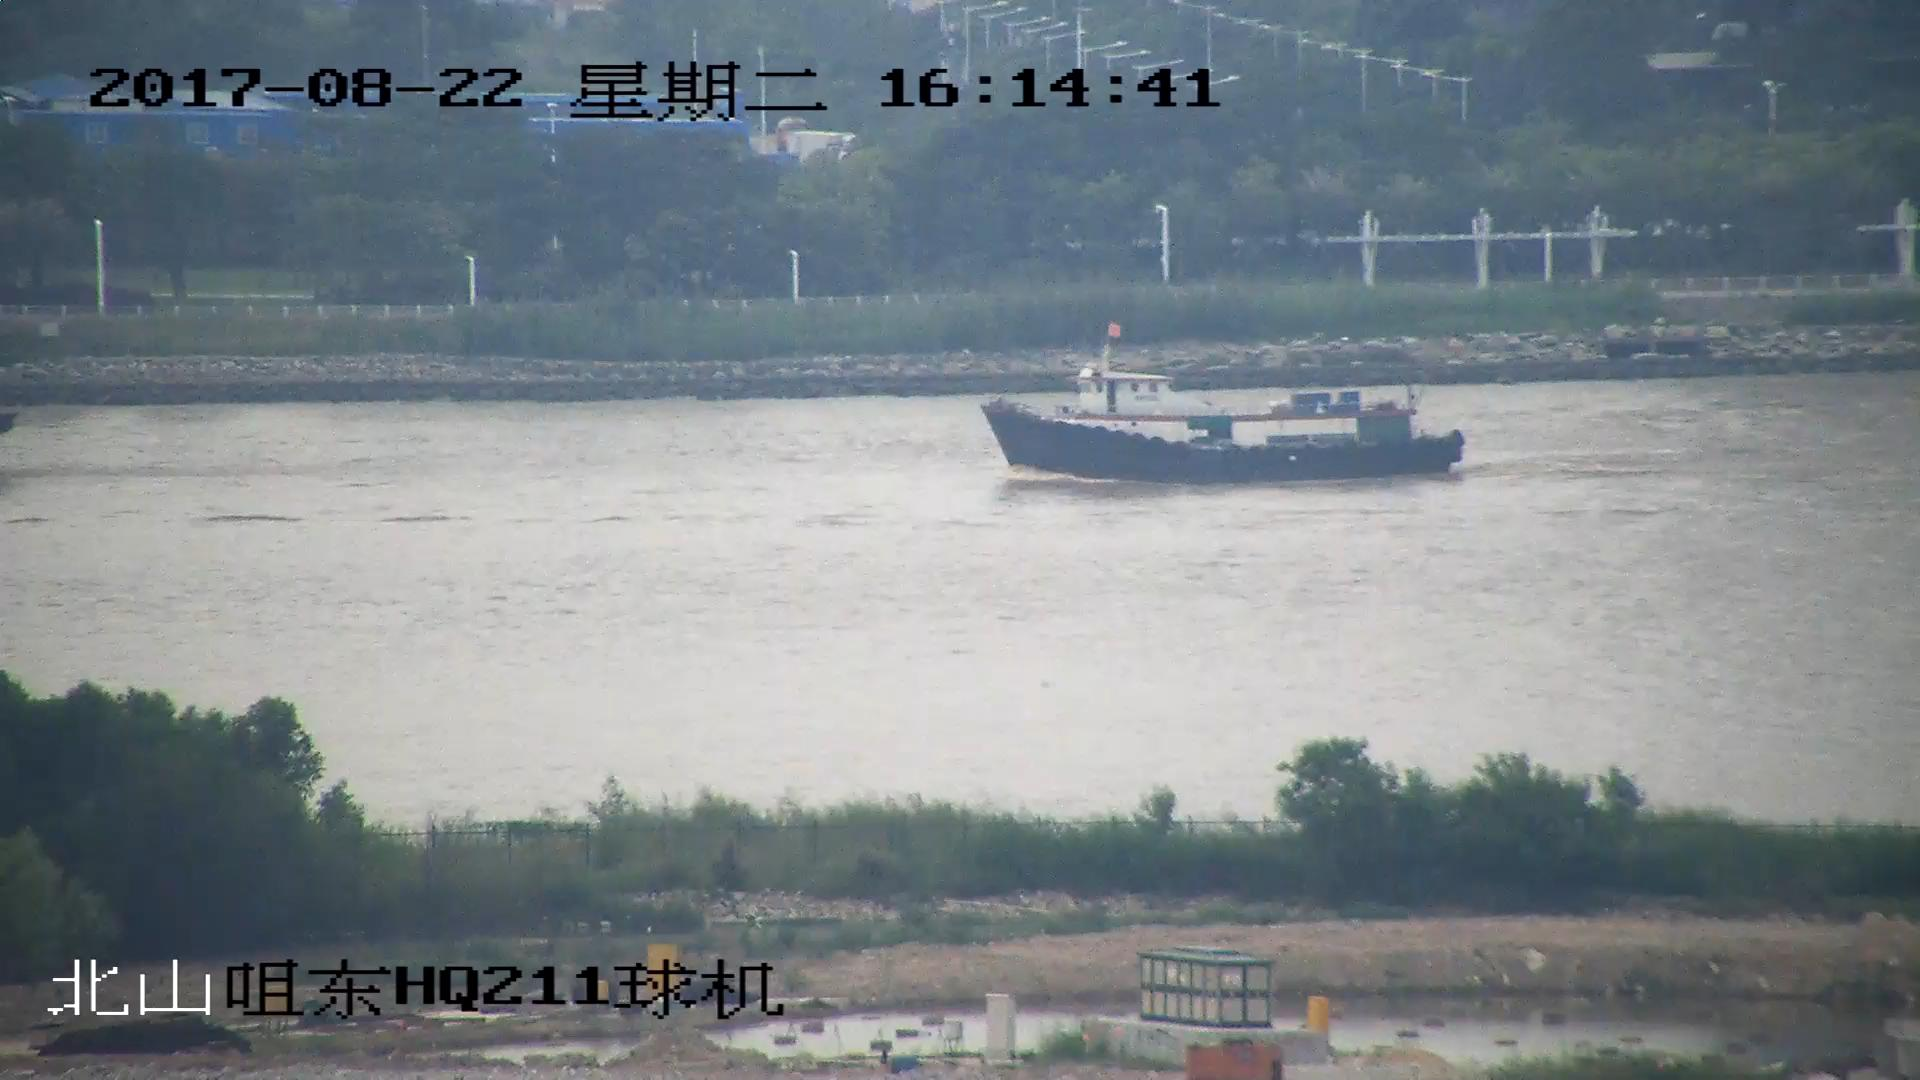fishing boat: (980, 322, 1463, 491)
